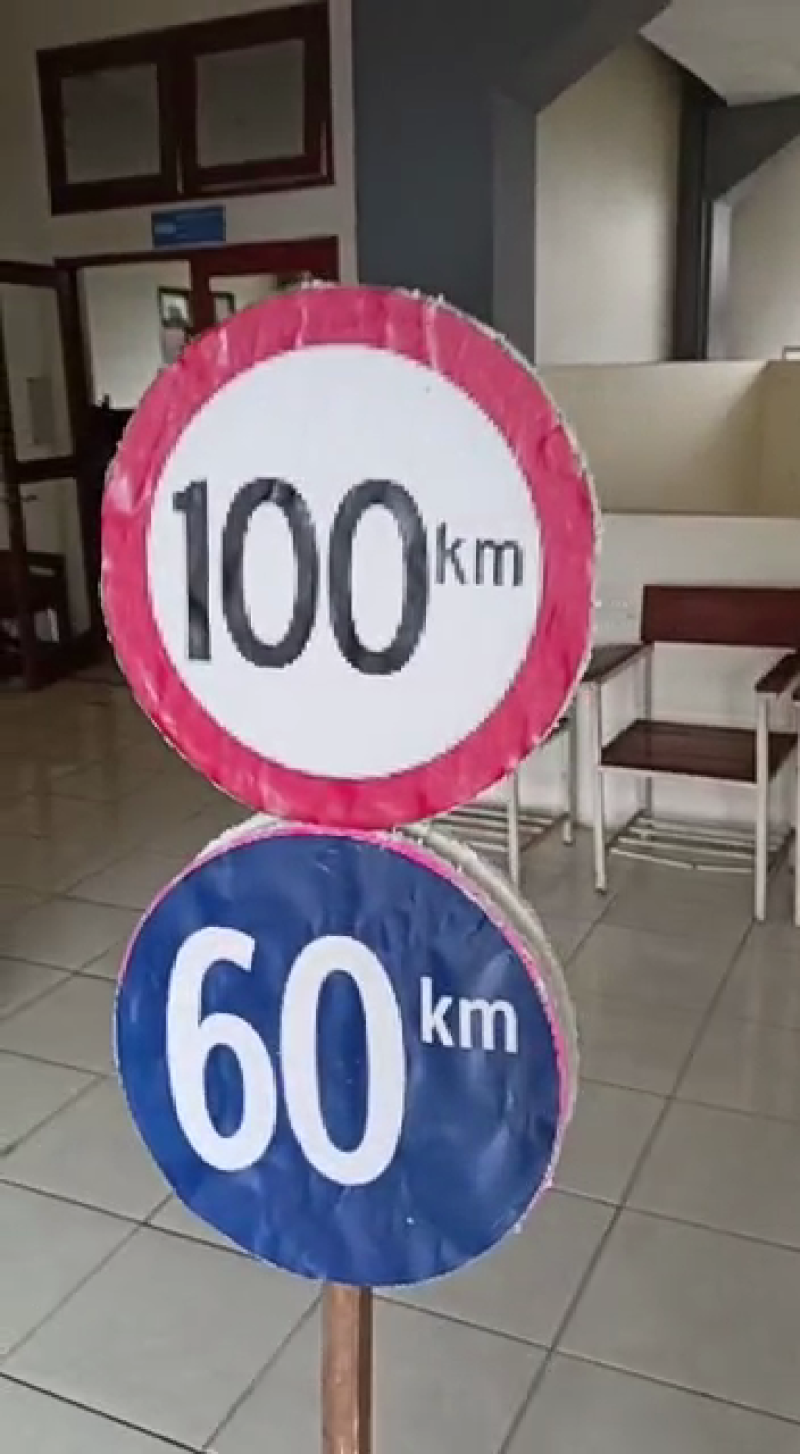batas maksimal 100kmperjam minimal 60kmperjam: (87, 274, 597, 1295)
